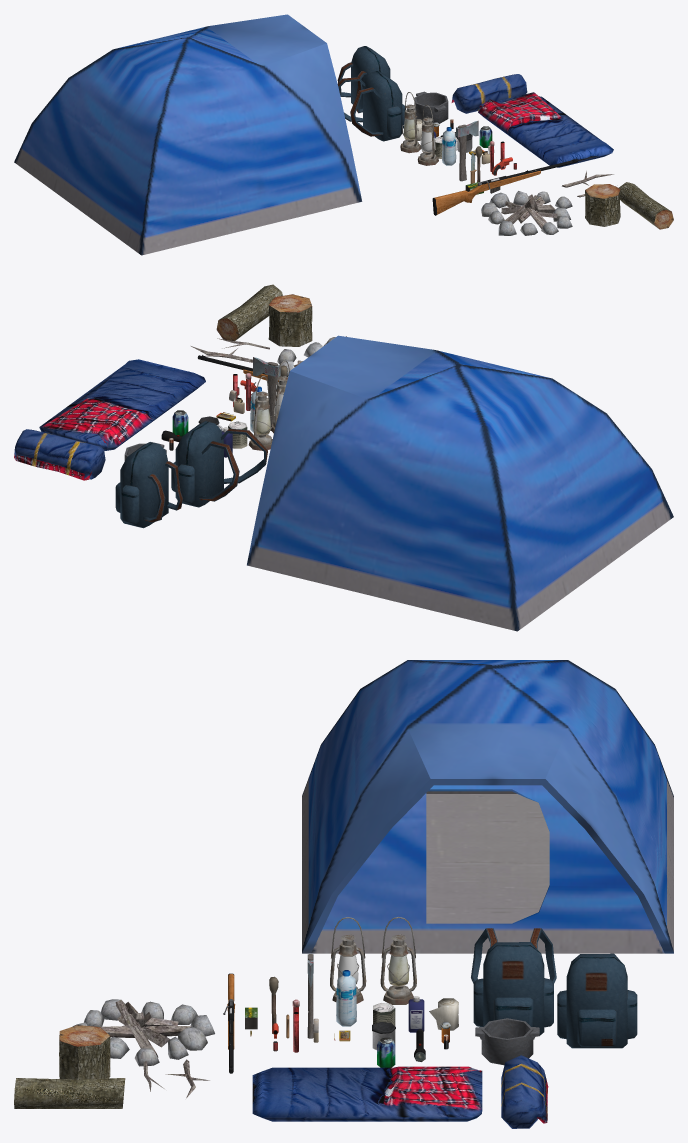
Rendered from Survival.dae.
3 views of the same model, one above another, from view 1: azimuth 30°, elevation 25°; view 2: azimuth 150°, elevation 25°; view 3: azimuth 270°, elevation 25° (orthographic). The views are drawn at different scales.
Parts seen in each view (by area): view 1: Shelter_tent, sleeping_bag, Backpack, bonfire, sleeping_bag_01, Trunk, Backpack.001, hunting_rifle, Trunk_01, Casserole, Farol, Axe (+2 smaller); view 2: Shelter_tent, sleeping_bag, Backpack, Backpack.001, sleeping_bag_01, Trunk, Trunk_01, Farol, Axe, bonfire; view 3: Shelter_tent, sleeping_bag, Backpack, Backpack.001, bonfire, Trunk_01, sleeping_bag_01, Trunk, Casserole, Farol, Water, Farol_G.
Part boxes in pixels (x1,y1,x2,y2): Shelter_tent: (14,14,362,255); sleeping_bag: (478,92,613,167); Backpack: (337,71,405,141); bonfire: (481,191,572,235); sleeping_bag_01: (451,74,527,113); Trunk: (585,184,620,226); Backpack.001: (337,46,390,113); hunting_rifle: (432,159,577,215); Trunk_01: (619,182,673,229); Casserole: (414,91,448,123); Farol: (400,104,420,153); Axe: (456,120,478,181); Shelter_tent: (247,335,673,631); sleeping_bag: (39,359,205,450); Backpack: (171,421,267,507); Backpack.001: (115,442,182,528); sleeping_bag_01: (14,429,105,480); Trunk: (268,294,312,346); Trunk_01: (216,284,282,340); Farol: (248,391,272,450); Axe: (253,357,280,430); bonfire: (277,336,346,375); Shelter_tent: (302,660,673,953); sleeping_bag: (252,1066,482,1121); Backpack: (471,928,556,1035); Backpack.001: (557,953,637,1048); bonfire: (73,999,214,1066); Trunk_01: (14,1078,125,1108); sleeping_bag_01: (501,1055,548,1128); Trunk: (59,1025,110,1079); Casserole: (475,1018,539,1065); Farol: (380,934,416,1004); Water: (336,970,356,1026); Farol_G: (330,934,366,1003).
Bounding box in the file's own units: 6.59 × 5.62 × 2.1.
